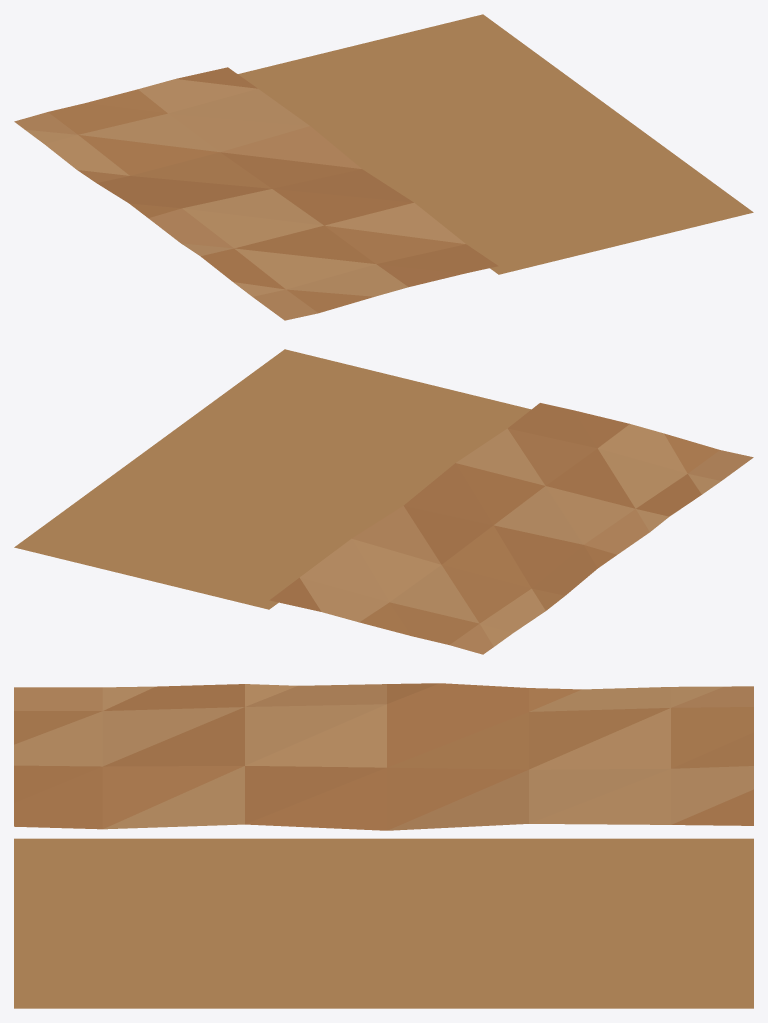
3 views of the same model, one above another, from view 1: azimuth 30°, elevation 25°; view 2: azimuth 150°, elevation 25°; view 3: azimuth 270°, elevation 25° (orthographic). The views are drawn at different scales.
Parts seen in each view (by area): view 1: baked; view 2: baked; view 3: baked.
Part boxes in pixels (left/top/right/bottom): baked: left=14, top=14, right=753, bottom=320; baked: left=14, top=349, right=753, bottom=654; baked: left=14, top=683, right=753, bottom=1008.
Size of the model in its own units: 62.5 by 1.38 by 62.5.
